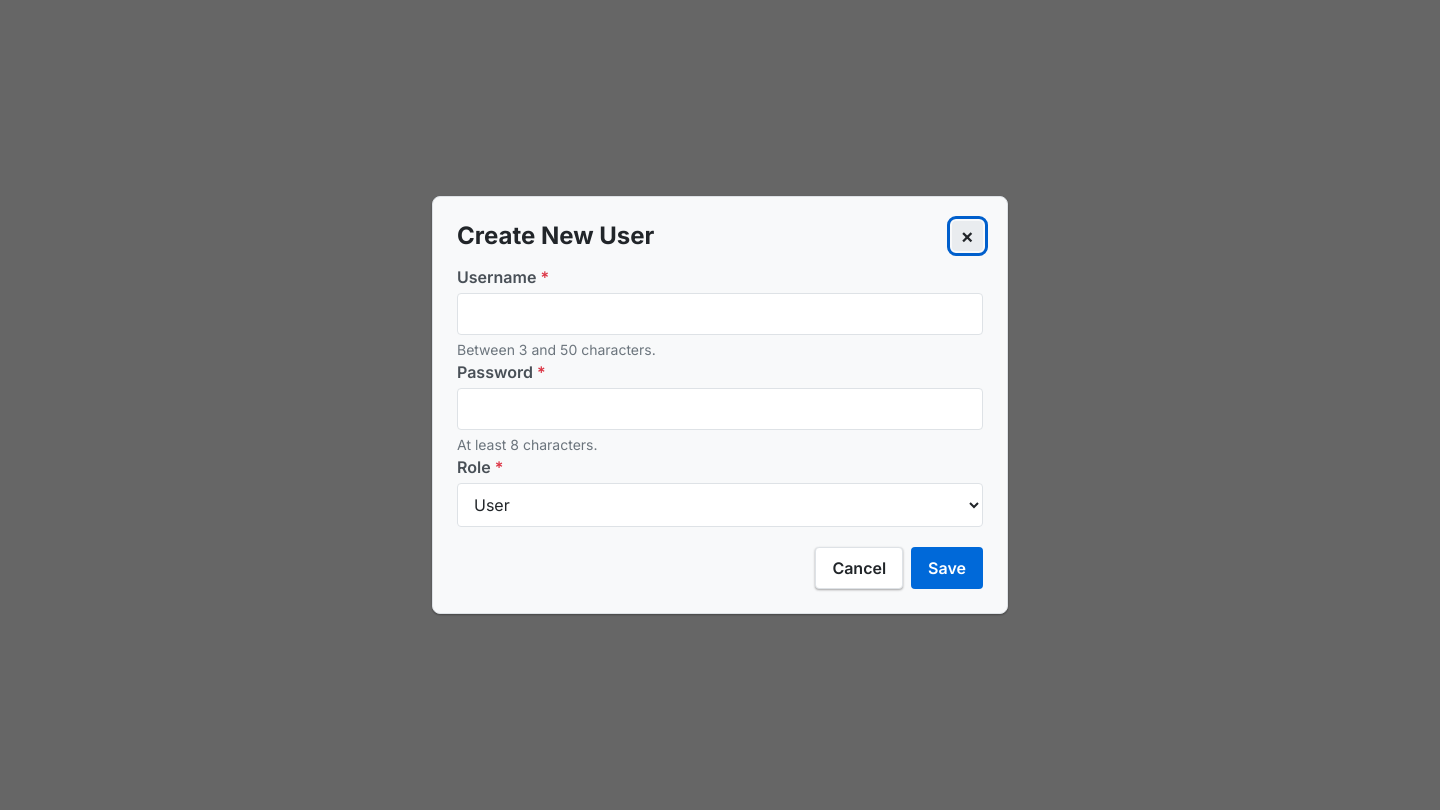
Scenario: AddUserModal › shows a duplicate-username 409 inline and keeps the dialog open
Type "newadmin" into the field labelled "Username". click: {"x": 720, "y": 314}
box: left=457, top=293, right=983, bottom=335
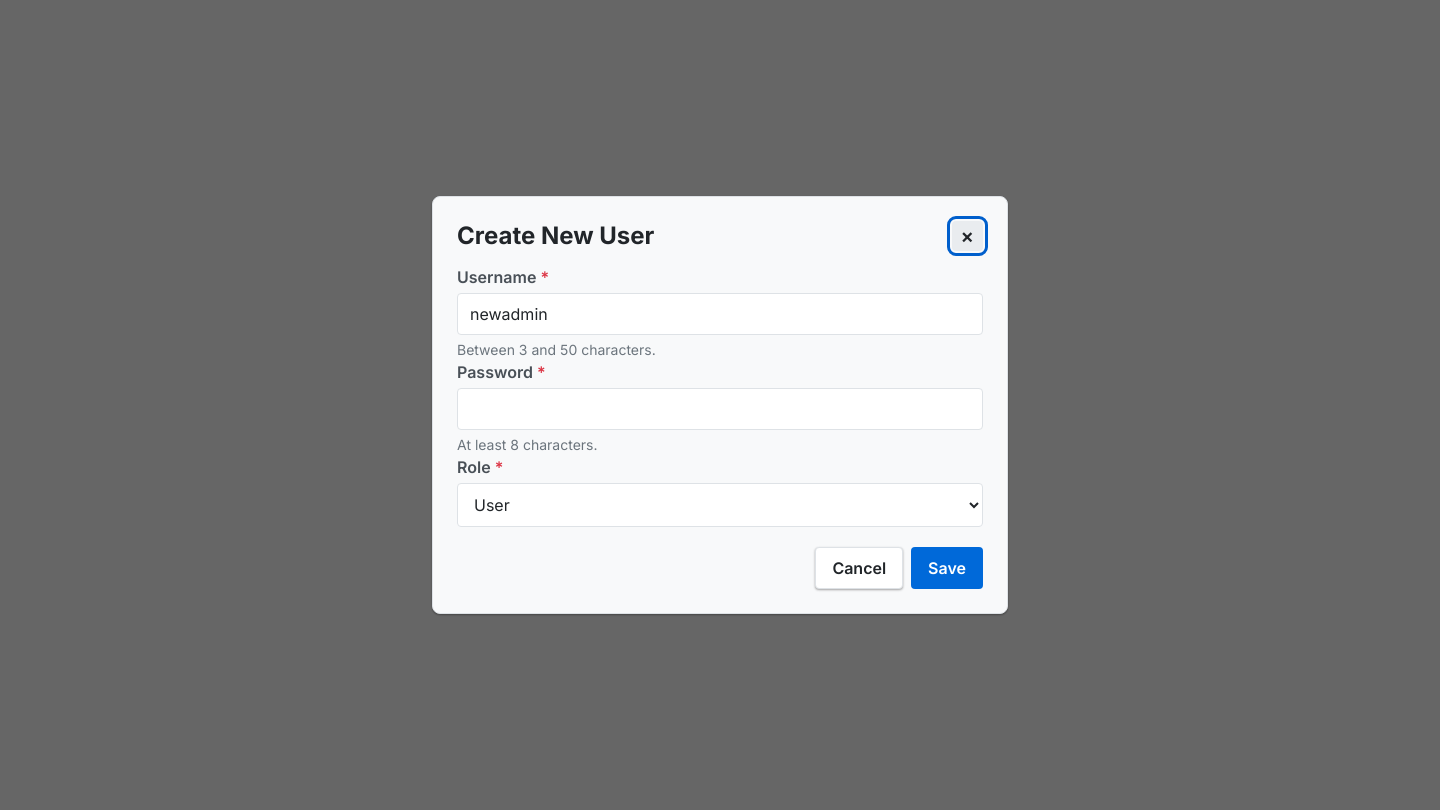
Type "password123" into the password field labelled "Password". click: {"x": 720, "y": 409}
box: left=457, top=388, right=983, bottom=430
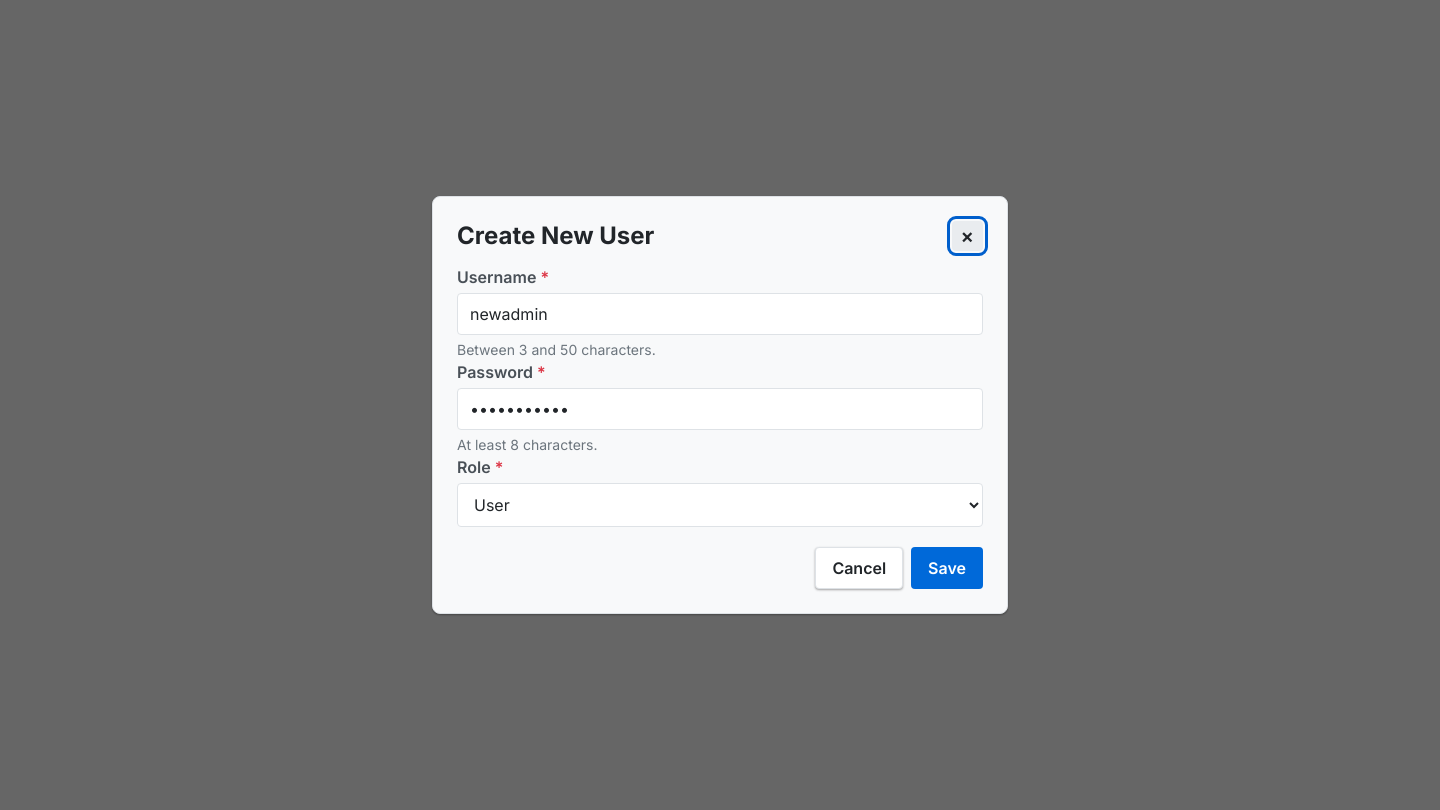
Click the button "Save". click: {"x": 947, "y": 568}
box: left=911, top=547, right=983, bottom=589
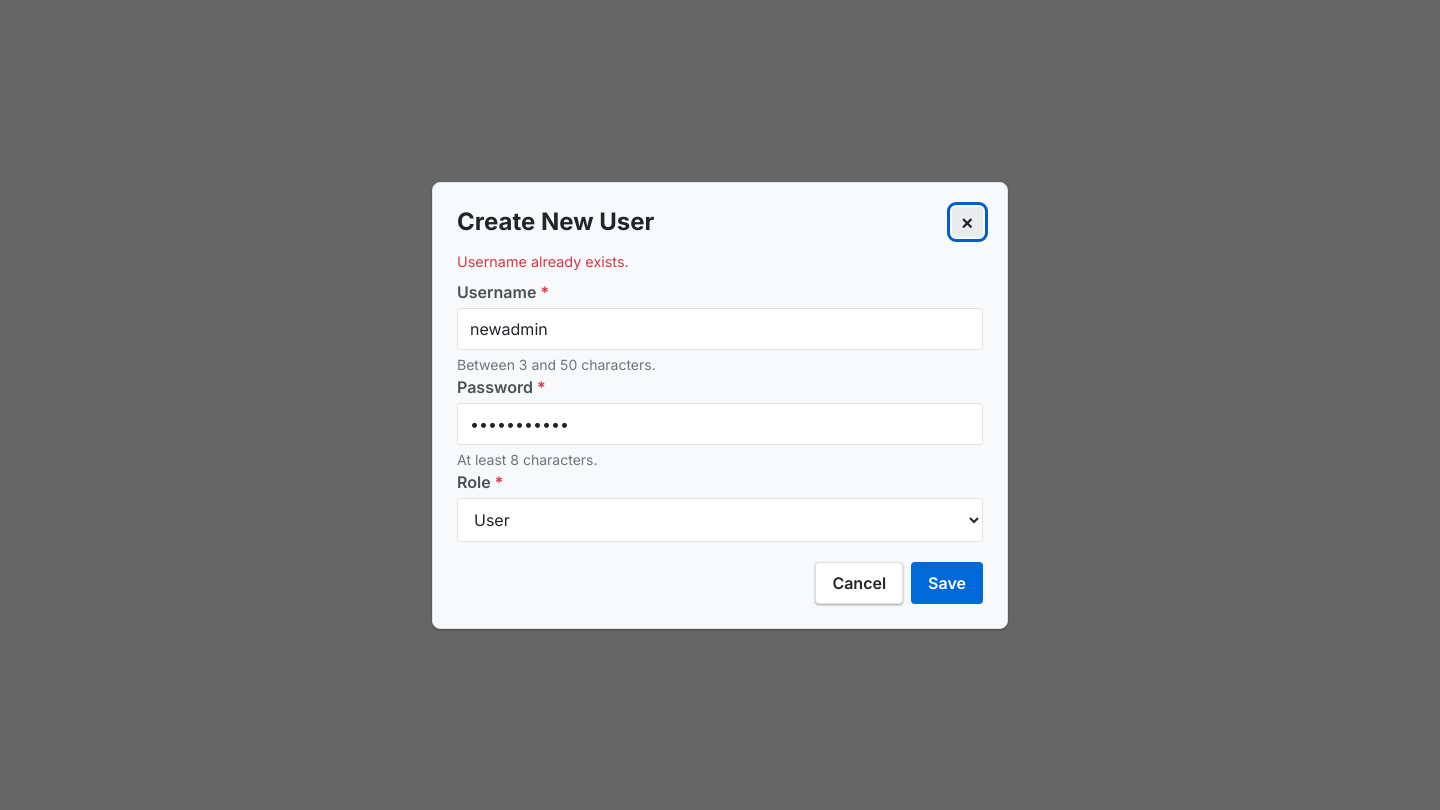
Expected: the heading "Create New User" is shown, left=457, top=206, right=654, bottom=236
Expected: the message reads "Username already exists.", left=457, top=252, right=629, bottom=270
